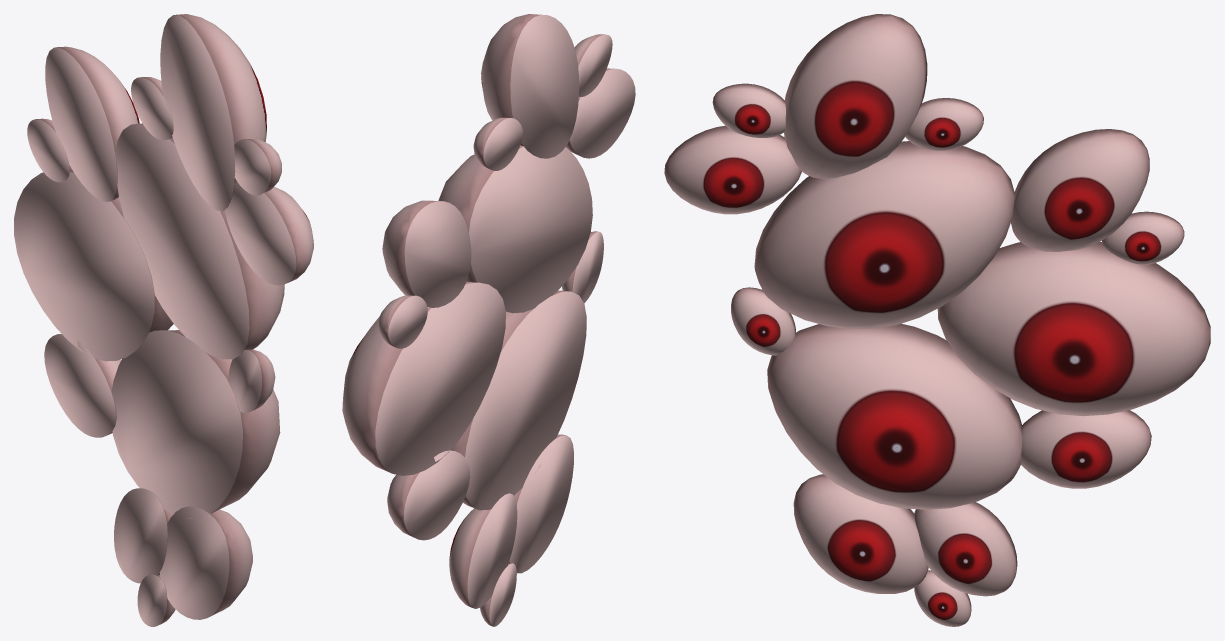
File: eye cluster 3.fbx
The picture shows the model from 3 angles, left to right: view 1: azimuth 30°, elevation 25°; view 2: azimuth 150°, elevation 25°; view 3: azimuth 270°, elevation 25°; orthographic projection. The views are drawn at different scales.
Visible parts, largest first — view 1: cluster 3; view 2: cluster 3; view 3: cluster 3.
Boxes of the visible parts, box(x1,y1,x2,y2) form: cluster 3: box(14, 14, 313, 626); cluster 3: box(342, 14, 635, 626); cluster 3: box(664, 14, 1210, 626).
Size of the model in its own units: 100 by 725 by 587.
1 material, 1 textured.
